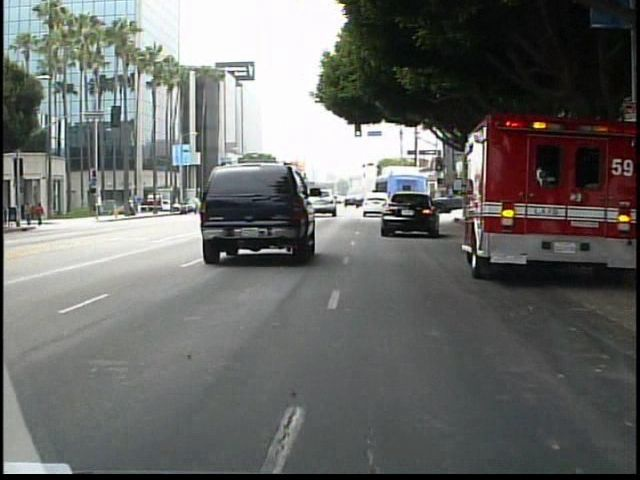person: (35, 200, 48, 230), (22, 200, 35, 229)
